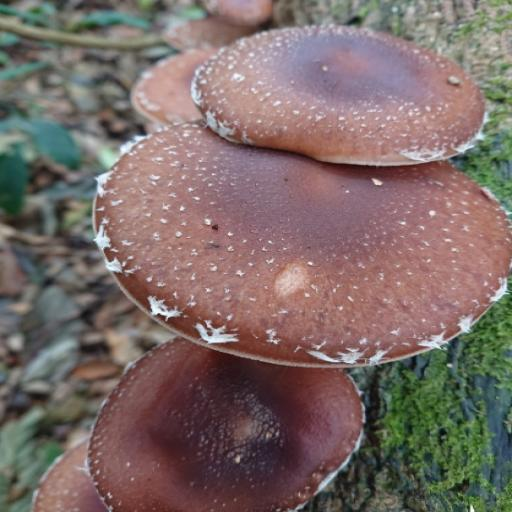Shiitake Mushroom: (43, 0, 512, 512)
